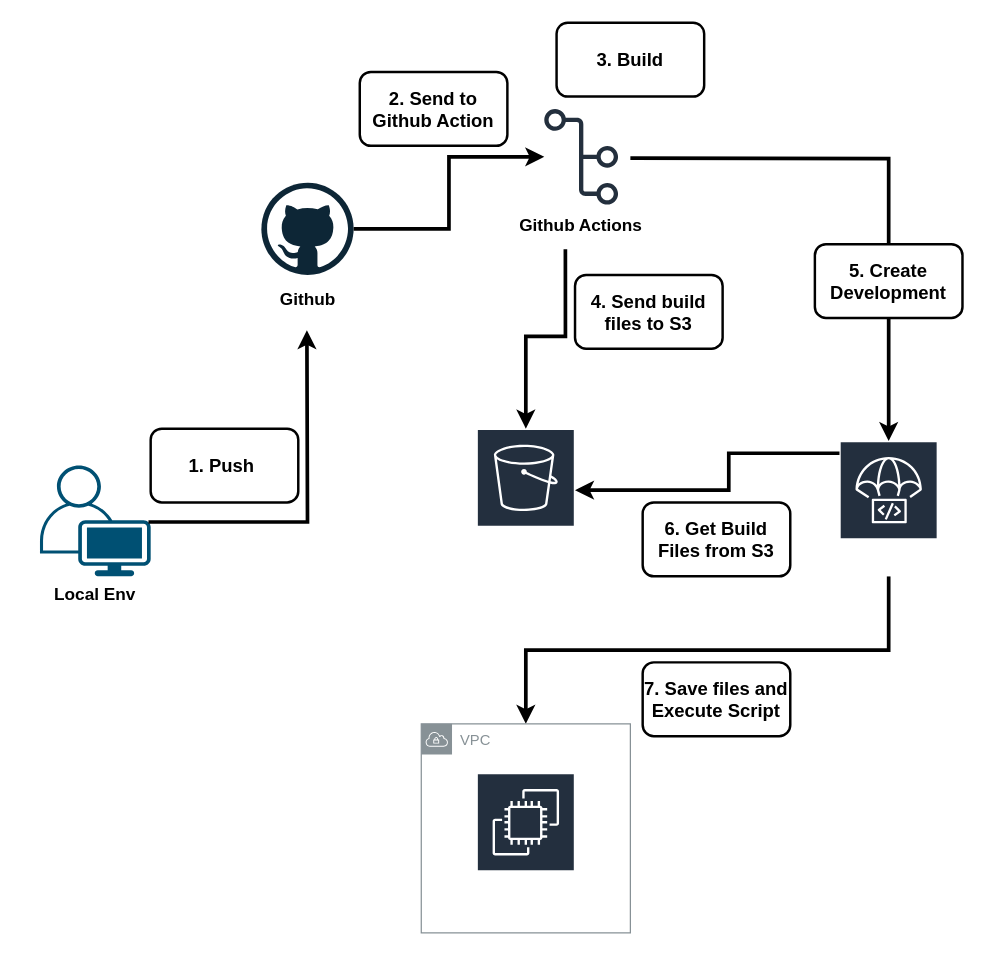
This 984x954 diagram has some shape labels left out. The shapes that lost their labels are listed below. From the top down, each one's centre as x and y in pixels, then its label:
At (x=525, y=489): "Amazon S3".
At (x=888, y=508): "AWS CodeDeploy".
At (x=525, y=834): "Amazon EC2".
